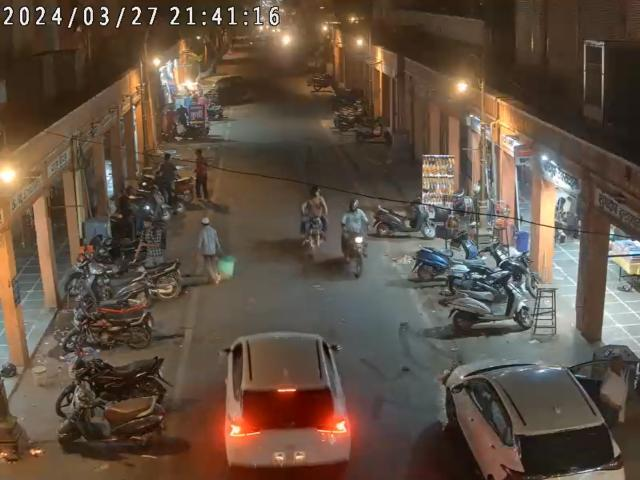car: (441, 362, 631, 480), (222, 328, 361, 478)
helmet: (349, 196, 362, 213)
motorbike: (56, 347, 170, 411), (59, 306, 159, 355)
motorbike-rider: (336, 196, 370, 270), (298, 184, 330, 262)
person: (196, 215, 229, 286)
scooty: (56, 381, 168, 454), (444, 252, 538, 334), (406, 244, 479, 286)
